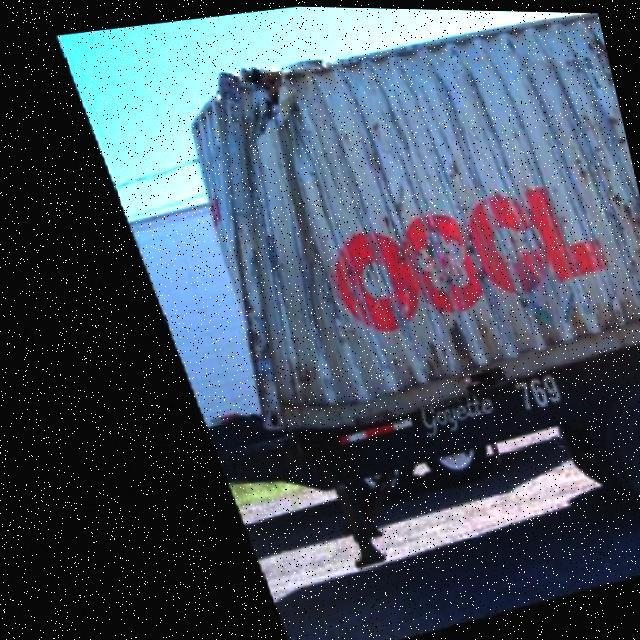dent: (202, 46, 354, 176)
